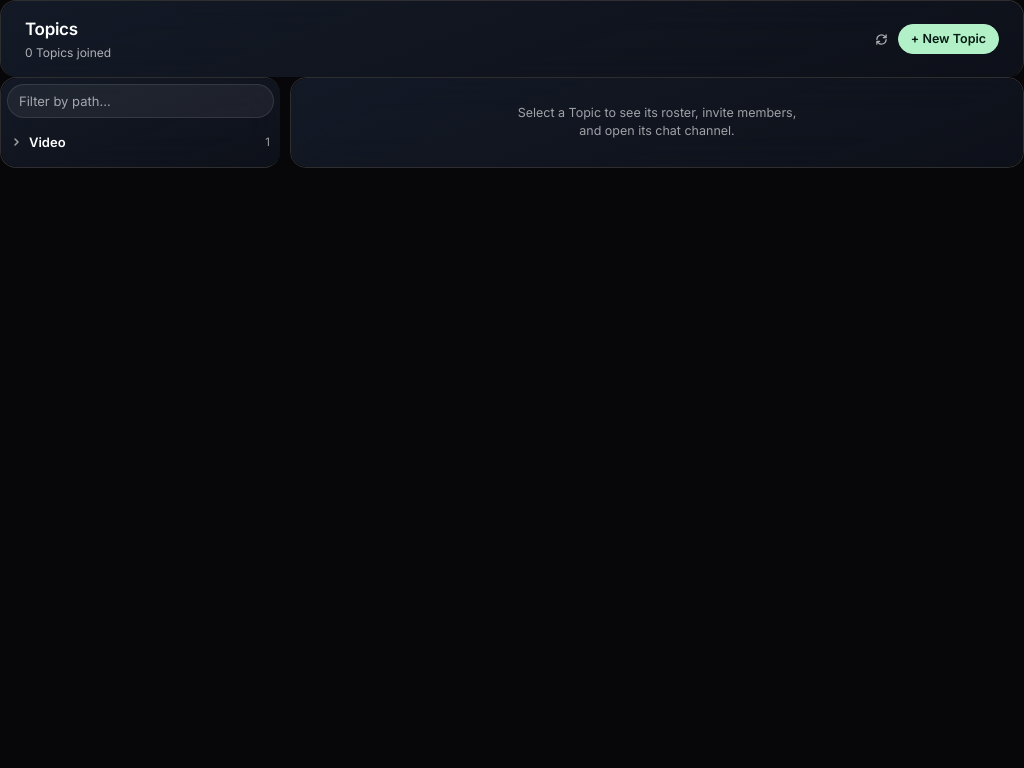
Test: review 3 — after a successful join the detail pane shows the JOINED view › joining from the detail pane clears the stale "not a member" view and opens the joined record
Click the button with class "root-header".
click(47, 142)  # box x1=7 y1=124 x2=274 y2=161
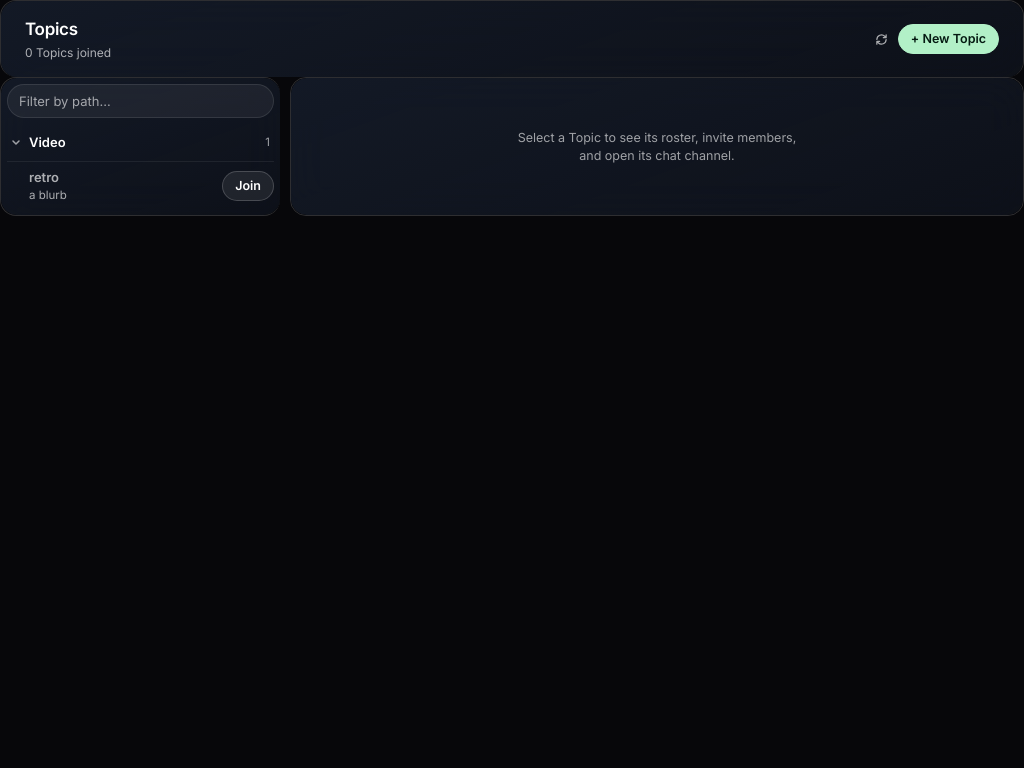
Expected: the text "retro" is shown, x1=29 y1=169 x2=59 y2=185
Click the button with class "name".
click(48, 195)  # box x1=7 y1=161 x2=274 y2=209
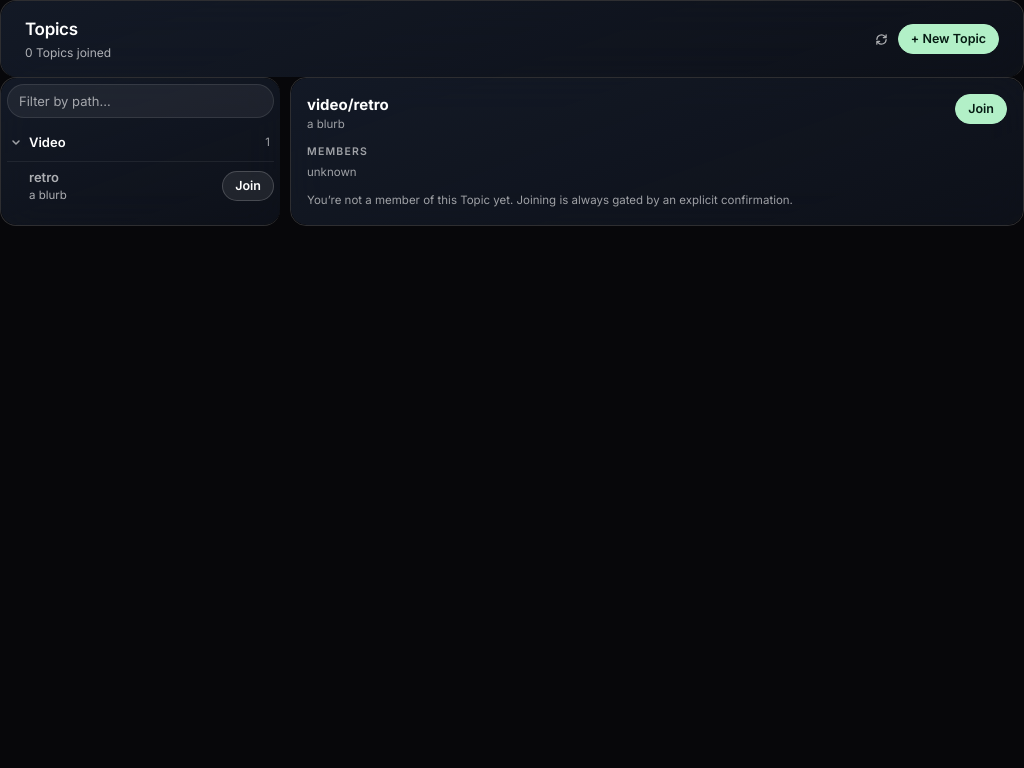
Expected: the text "not a member" is shown, x1=307 y1=193 x2=793 y2=207
Expected: the button "Join" in the row of "video/retro" is shown
Click the button "Join" in the row of "video/retro".
click(981, 109)  # box x1=955 y1=94 x2=1007 y2=124
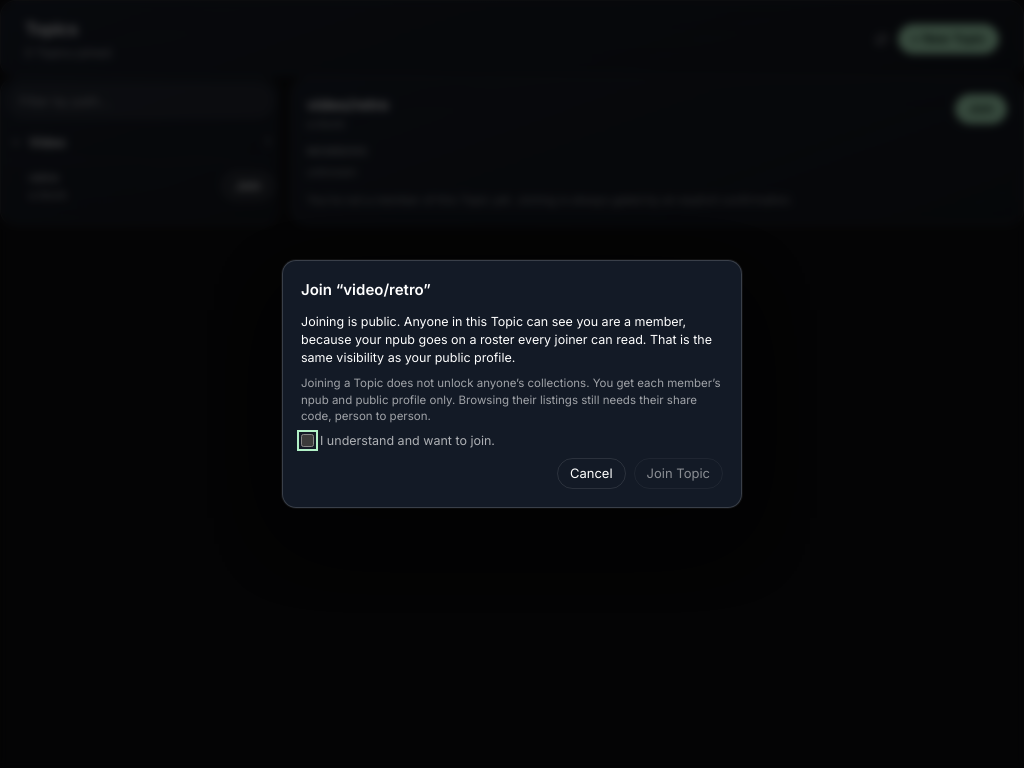
...then ack + confirm through it.
Click the checkbox labelled "I understand and want to join.".
click(308, 441)  # box x1=301 y1=434 x2=314 y2=447
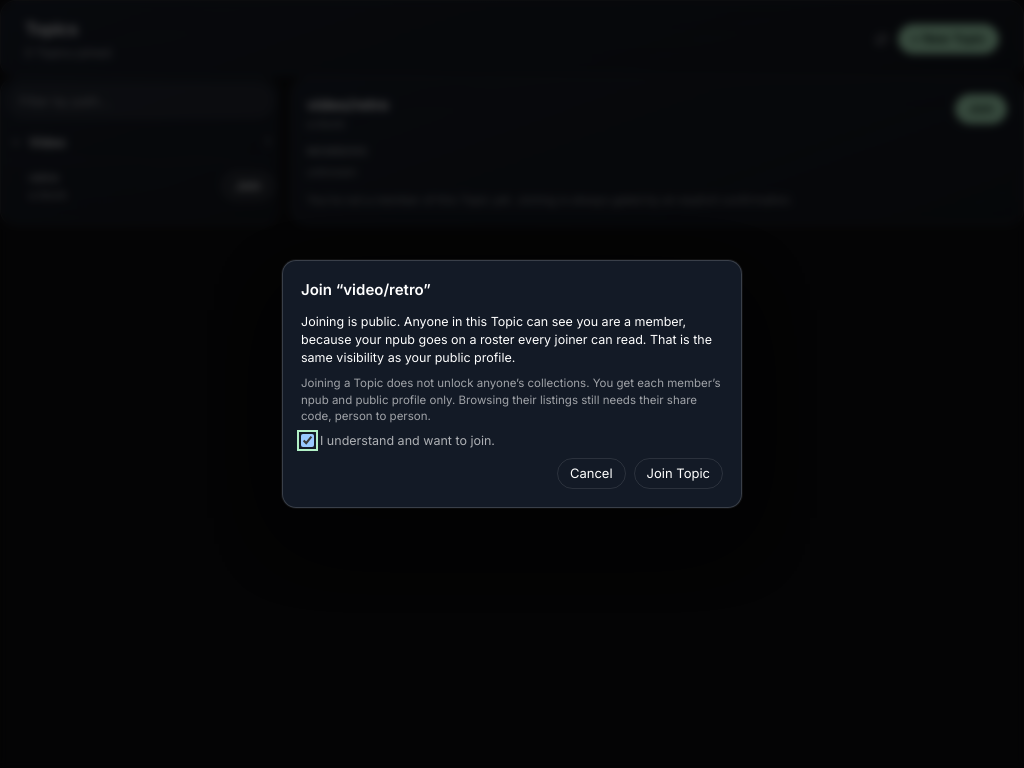
Click the button "Join Topic".
click(678, 473)  # box x1=634 y1=458 x2=723 y2=489
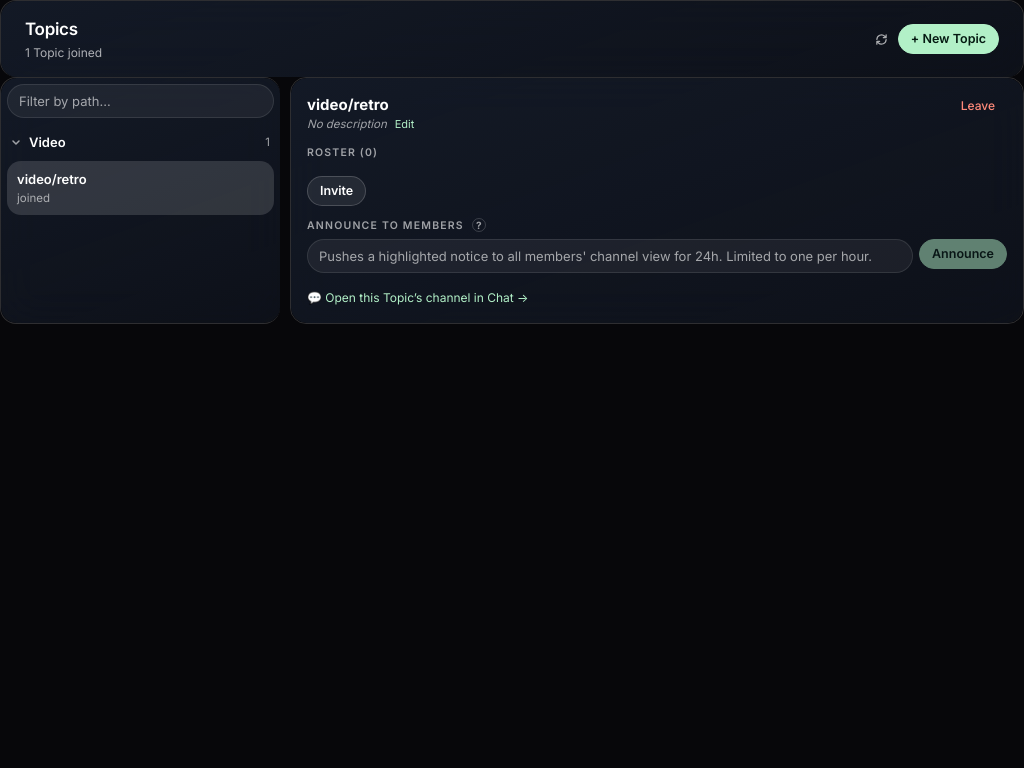
Expected: the text "Roster" is shown, x1=307 y1=146 x2=378 y2=159
Expected: the text "not a member" is gone
